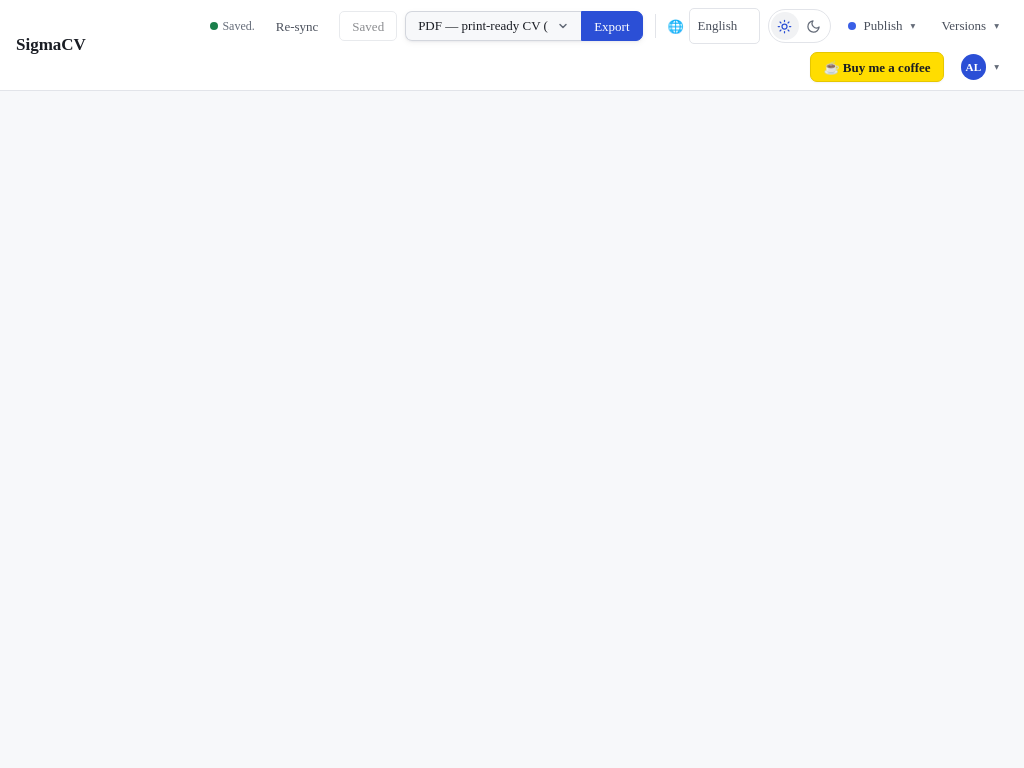
Top-bar menu dismissal (PopoverGroup scrim + one-open invariant) › closes the open menu when the scrim is pressed (the click the iframe would swallow)
Click the button "Publish ▾" at [881, 26], box [838,11,924,41]
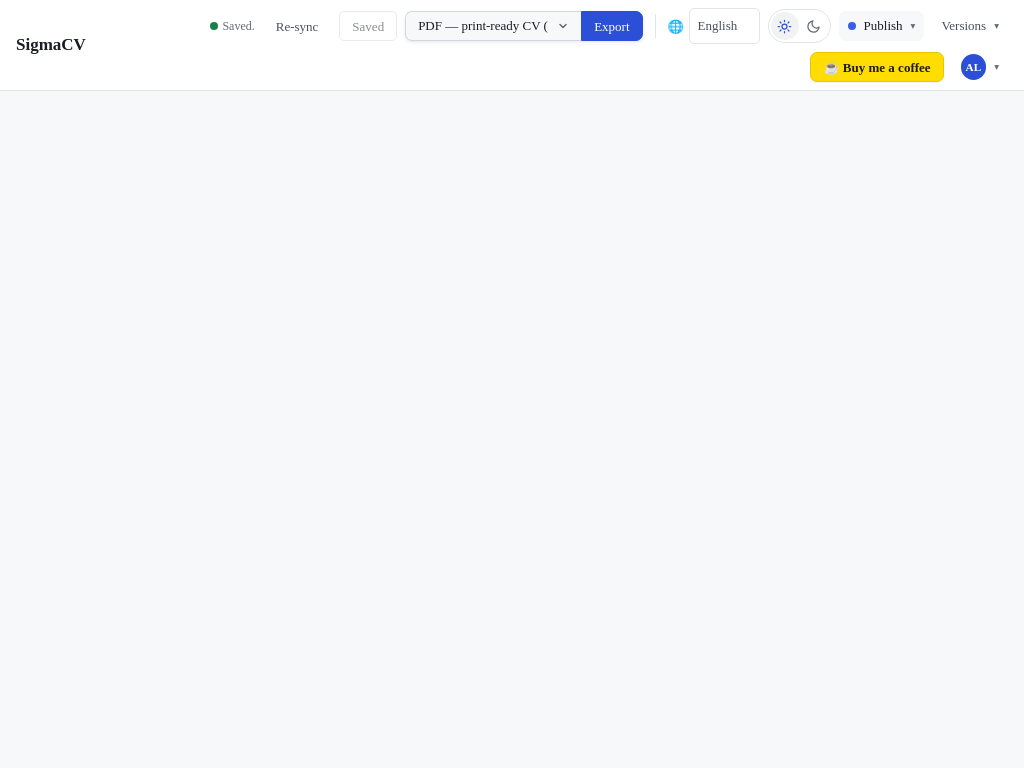
Result: the button "Publish ▾" is expanded at [838,11,924,41]
Press the mouse on the element with class "popover-scrim" at [512, 384], box [0,0,1023,767]
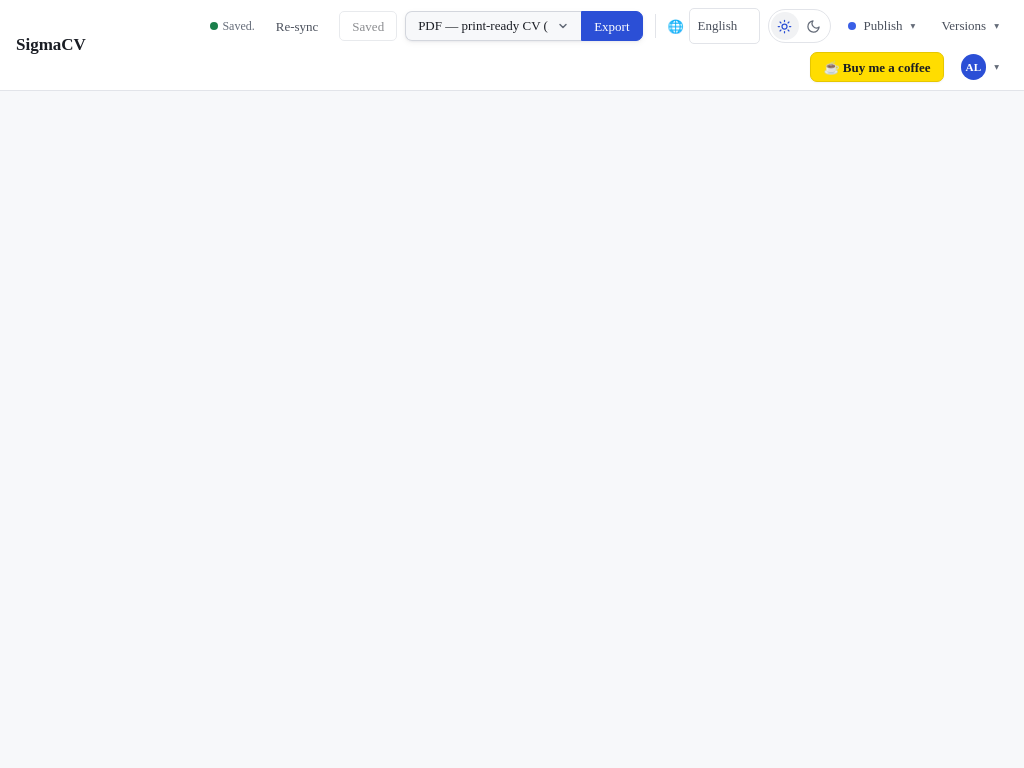
Result: the button "Publish ▾" is collapsed at [838,11,924,41]
